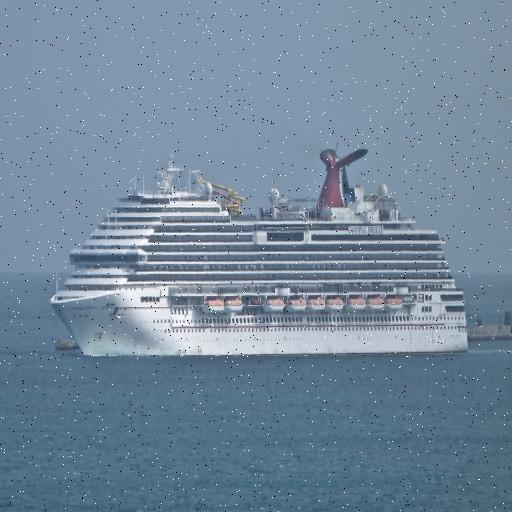cruises: (46, 139, 474, 365)
